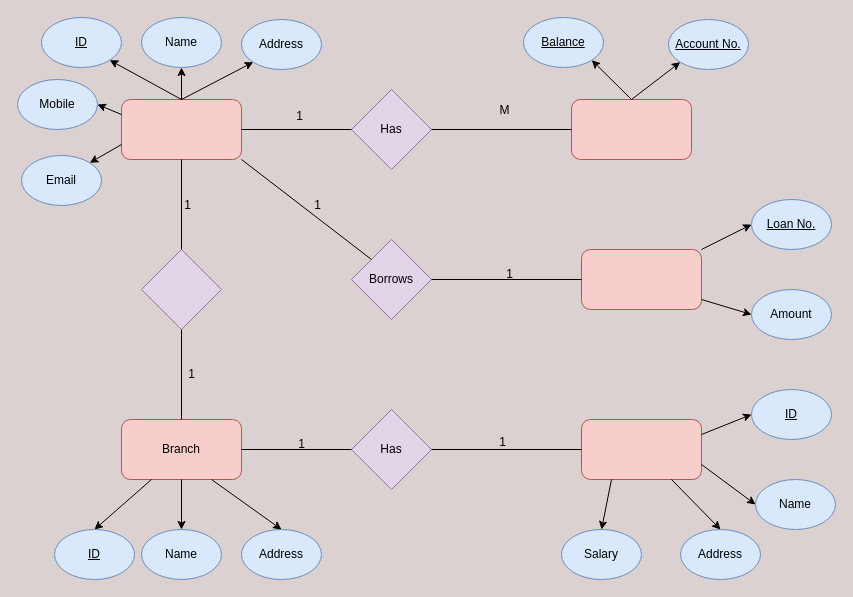
Some shapes in this 853 by 597 pixel diagram are drawn without their labels. The shapes that lost their labels are listed below. From the top down, each one's box as (x1, y1, x2, y2) in pixels, then its label:
(120, 98, 242, 160): Customer
(570, 98, 692, 160): Account
(140, 248, 222, 330): Belongs To
(580, 248, 702, 310): Loan
(580, 418, 702, 480): Employee
